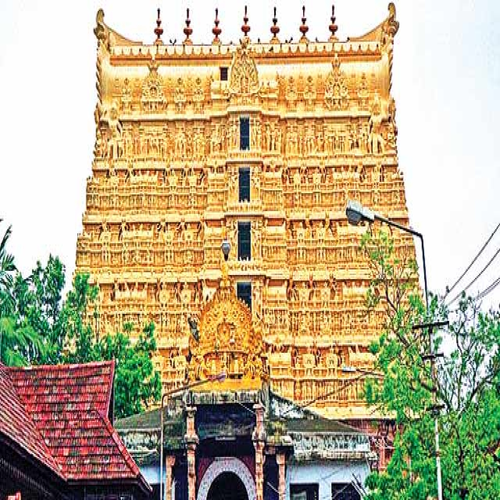Temple: (62, 4, 442, 430)
